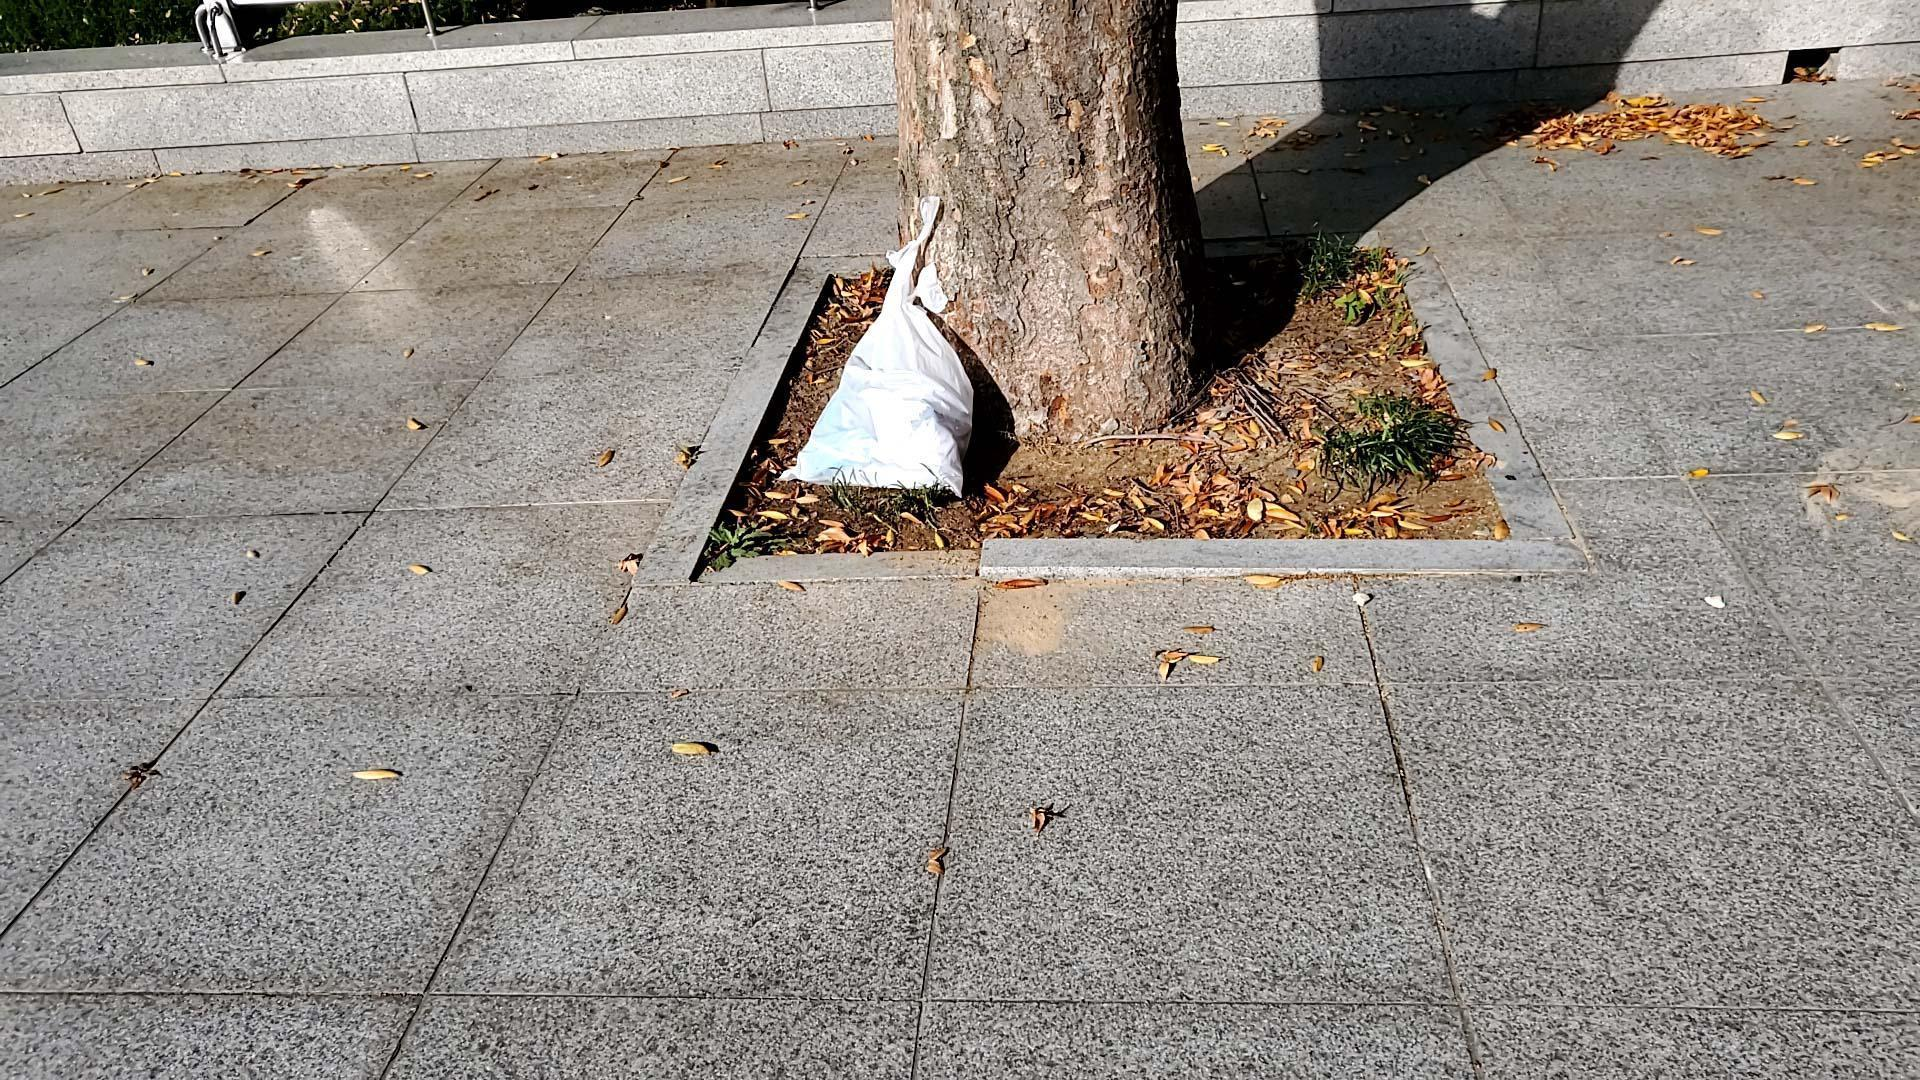white_bag: (767, 190, 989, 504)
